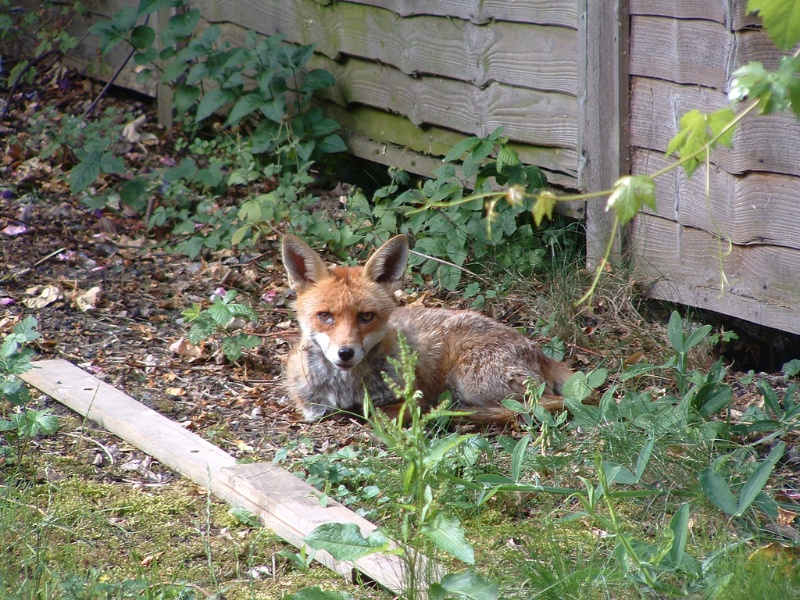fox: (273, 229, 603, 429)
